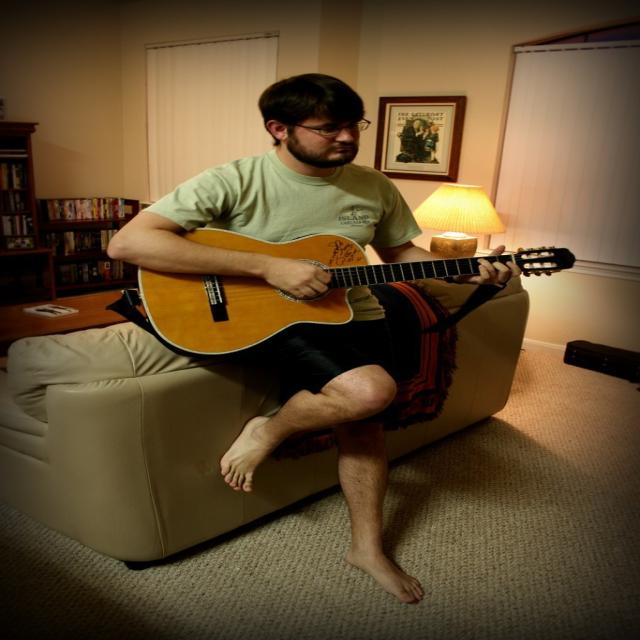guitar: (138, 229, 580, 357)
